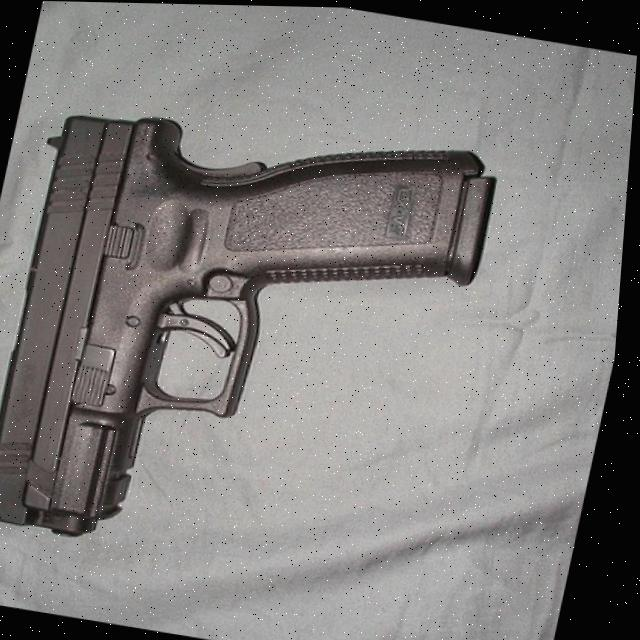pistol: (0, 82, 505, 591)
